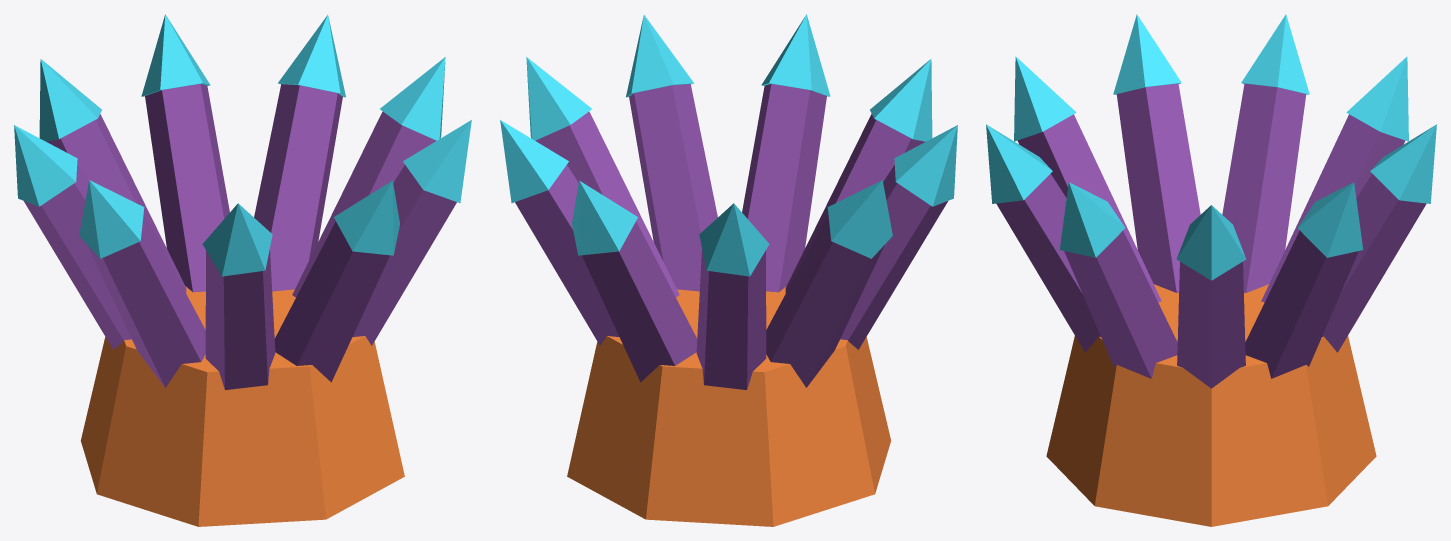
The model's file is env_r15_sea_anemone.glb.
The picture shows the model from 3 angles, left to right: view 1: azimuth 30°, elevation 25°; view 2: azimuth 150°, elevation 25°; view 3: azimuth 270°, elevation 25°; orthographic projection.
Visible parts, largest first — view 1: env_r15_sea_anemone; view 2: env_r15_sea_anemone; view 3: env_r15_sea_anemone.
Part boxes in pixels (x1,y1,x2,y2): env_r15_sea_anemone: (14,14,471,526); env_r15_sea_anemone: (500,14,957,526); env_r15_sea_anemone: (986,14,1436,526).
Bounding box in the file's own units: 1.4 × 1.2 × 1.4.
Materials: 1 (1 with a texture image).
